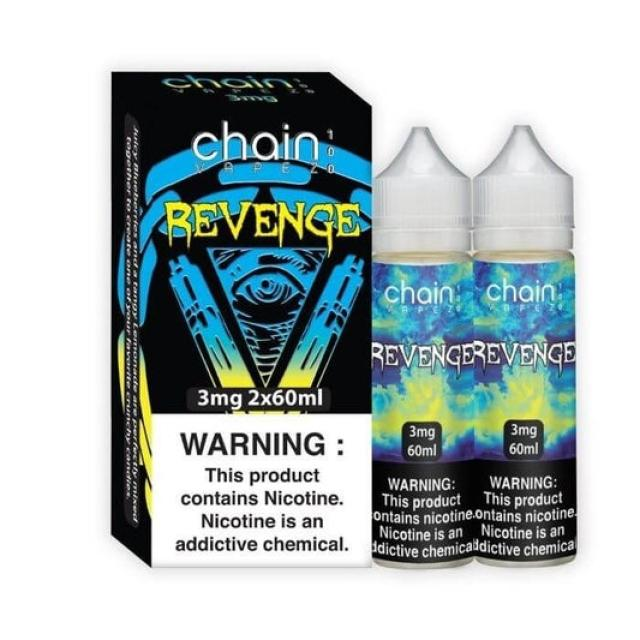Vapes: (108, 70, 374, 568)
